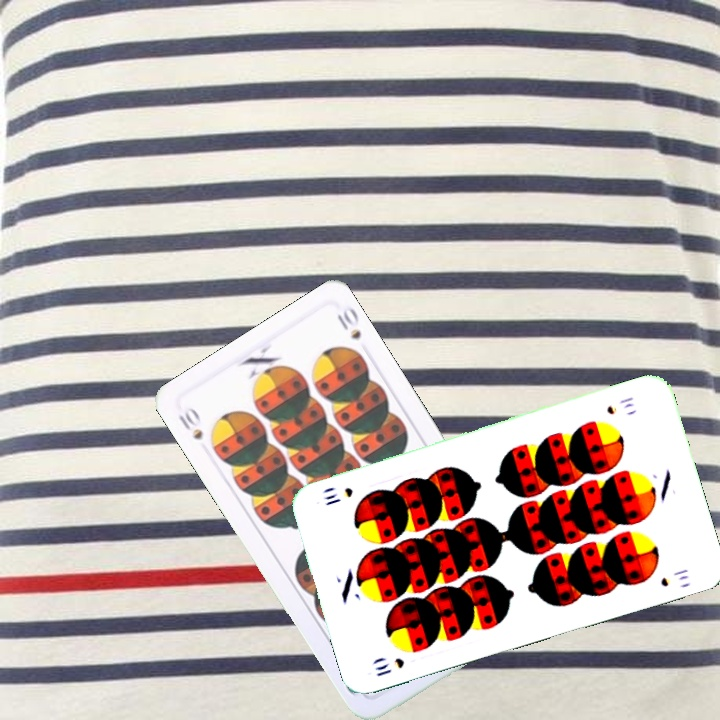S10: (174, 403, 206, 443), (371, 654, 407, 679), (602, 392, 637, 417)
